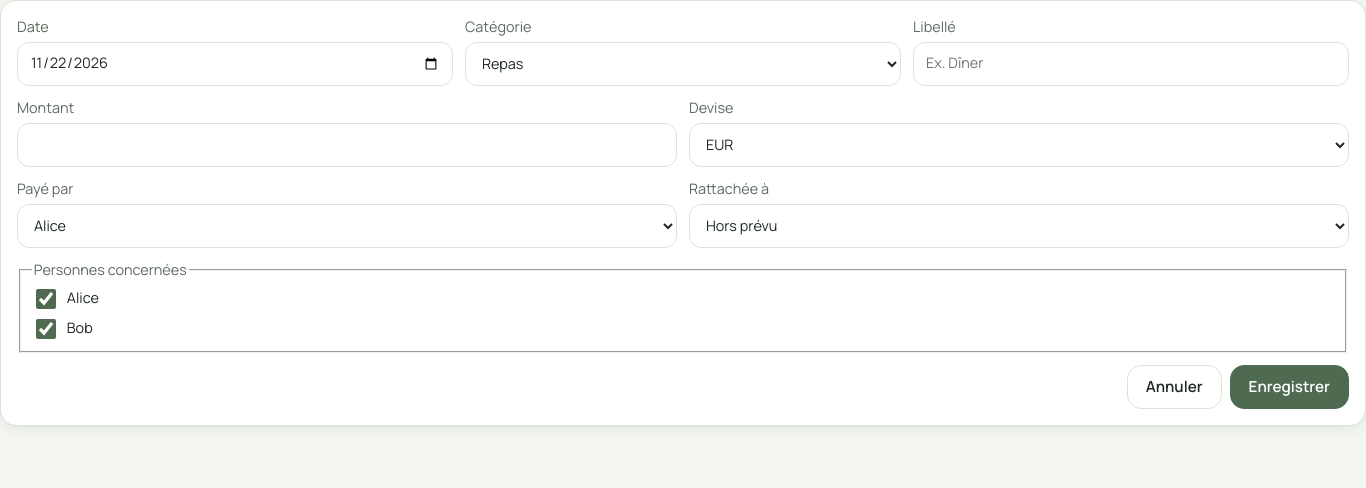
Test: ExpenseForm › refuse le montant «  »
The image size is (1366, 488).
Click the button "Enregistrer": {"x": 1289, "y": 386} [1230,364,1349,408]
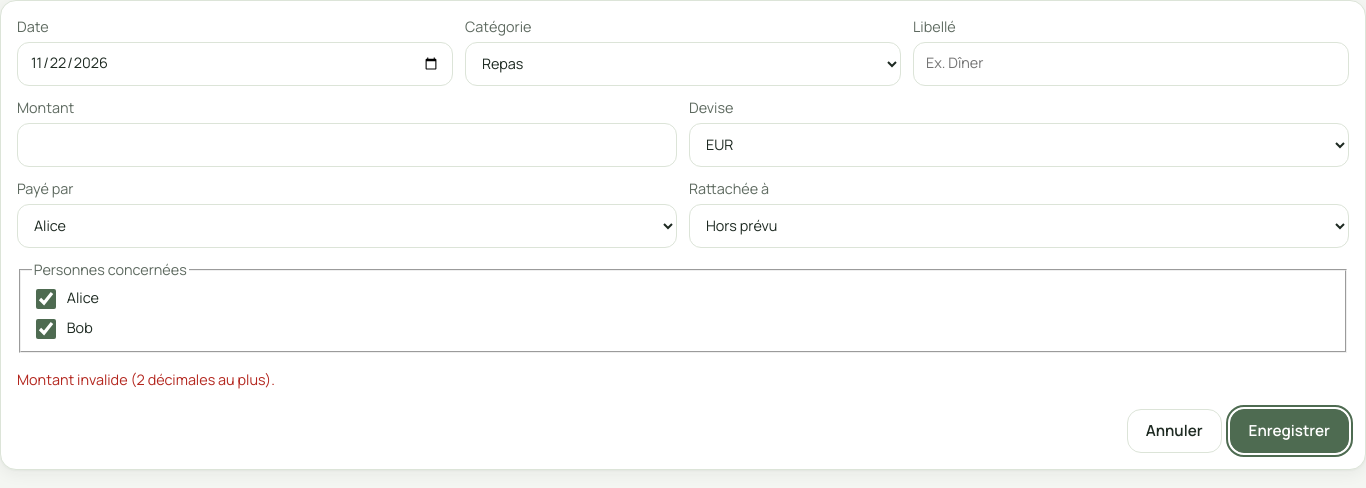
Now the text "Montant invalide (2 décimales au plus)." is shown, box [17,370,275,389]
